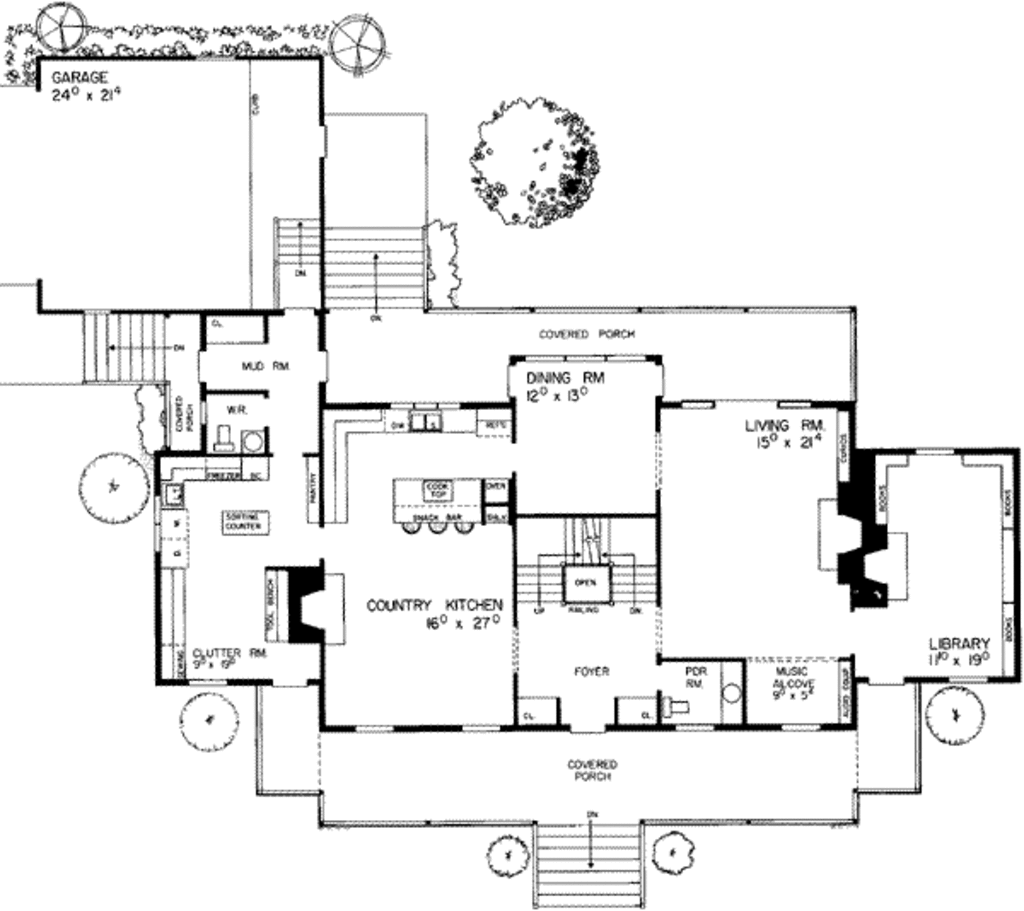kitchen_bar: (388, 475, 486, 535)
large_sink: (206, 421, 239, 458), (660, 692, 696, 721)
small_sink: (717, 659, 746, 727)
stairs: (512, 512, 660, 620), (524, 813, 652, 909), (314, 221, 426, 324), (78, 303, 174, 387), (264, 211, 324, 315)
windows: (512, 347, 646, 368), (342, 719, 400, 735), (902, 443, 960, 459), (456, 719, 505, 737)
